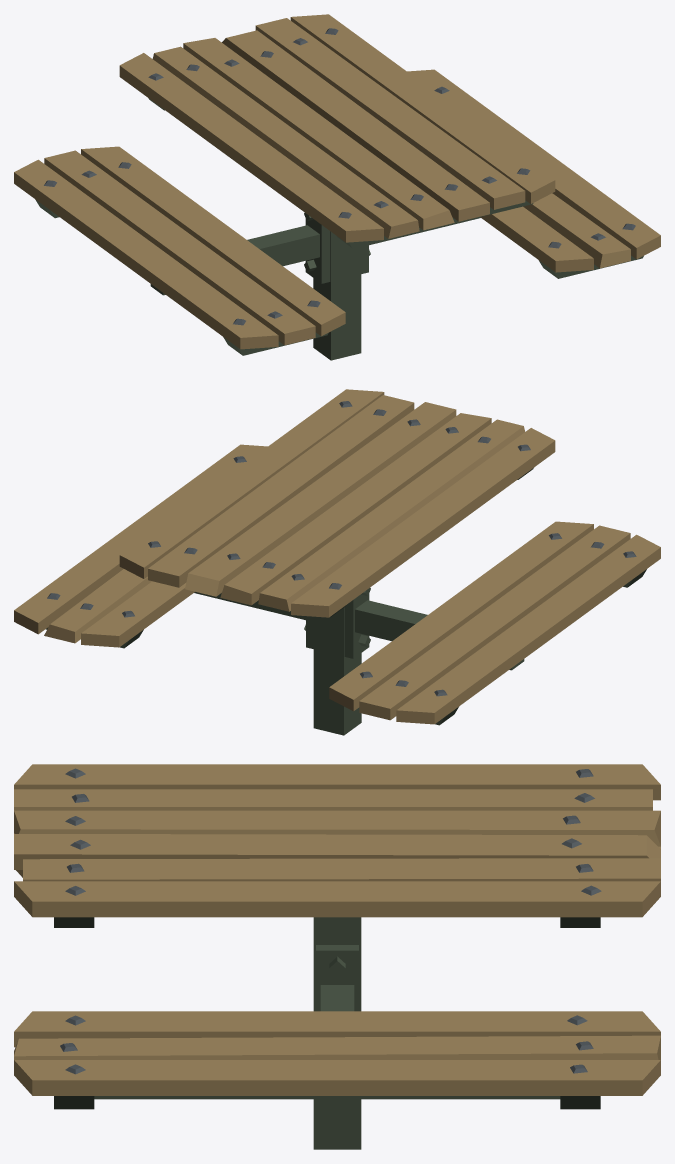
The model's file is picnic_table.glb.
The picture shows the model from 3 angles, top to bottom: view 1: azimuth 30°, elevation 25°; view 2: azimuth 150°, elevation 25°; view 3: azimuth 270°, elevation 25°; orthographic projection. The views are drawn at different scales.
Parts seen in each view (by area): view 1: SM_Env_Park_Table_01; view 2: SM_Env_Park_Table_01; view 3: SM_Env_Park_Table_01.
Boxes of the visible parts, box(x1,y1,x2,y2) form: SM_Env_Park_Table_01: box(14, 14, 660, 360); SM_Env_Park_Table_01: box(14, 389, 660, 735); SM_Env_Park_Table_01: box(14, 764, 660, 1149).
Size of the model in its own units: 1.79 by 0.9333 by 1.77.
1 material, 1 textured.
